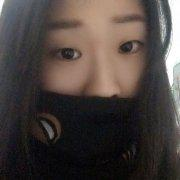WRONG: (31, 18, 168, 155)
